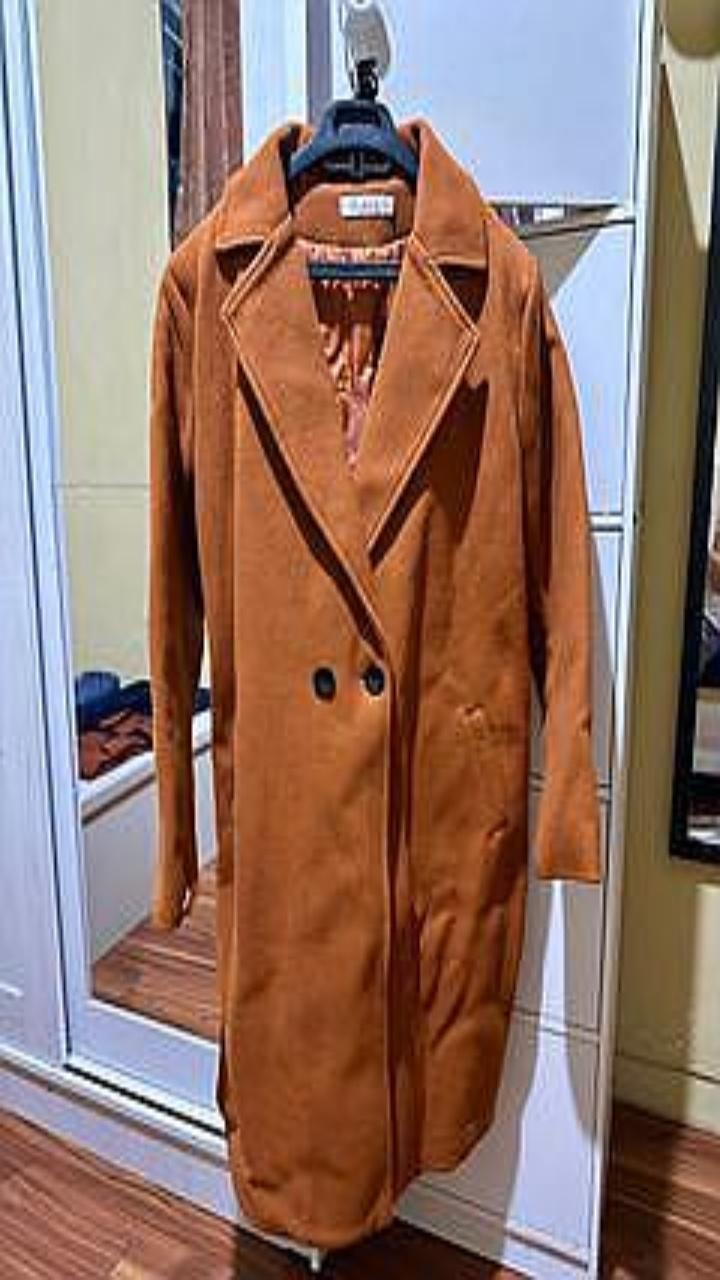Coat: (149, 118, 602, 1247)
